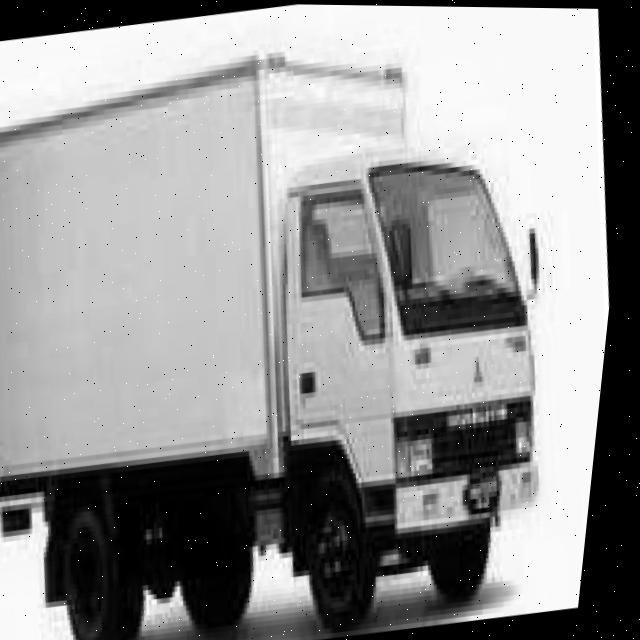truck: (221, 82, 614, 640)
